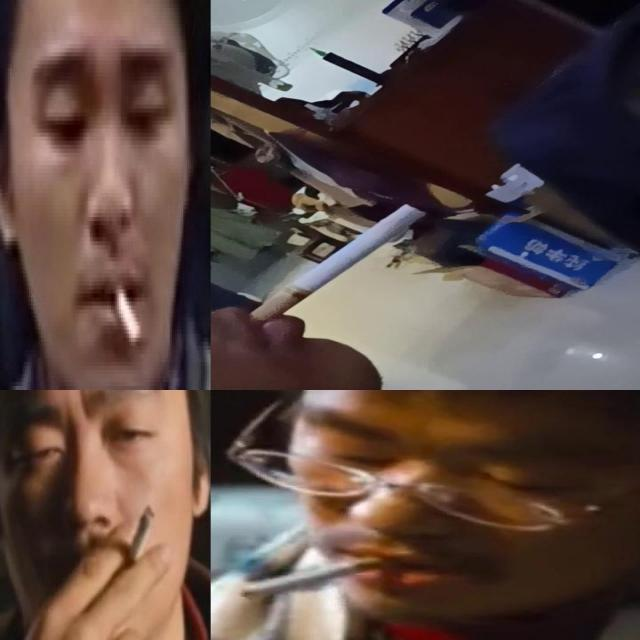cigarette: (245, 202, 430, 324), (238, 551, 402, 599), (118, 504, 156, 576), (110, 276, 143, 350)
